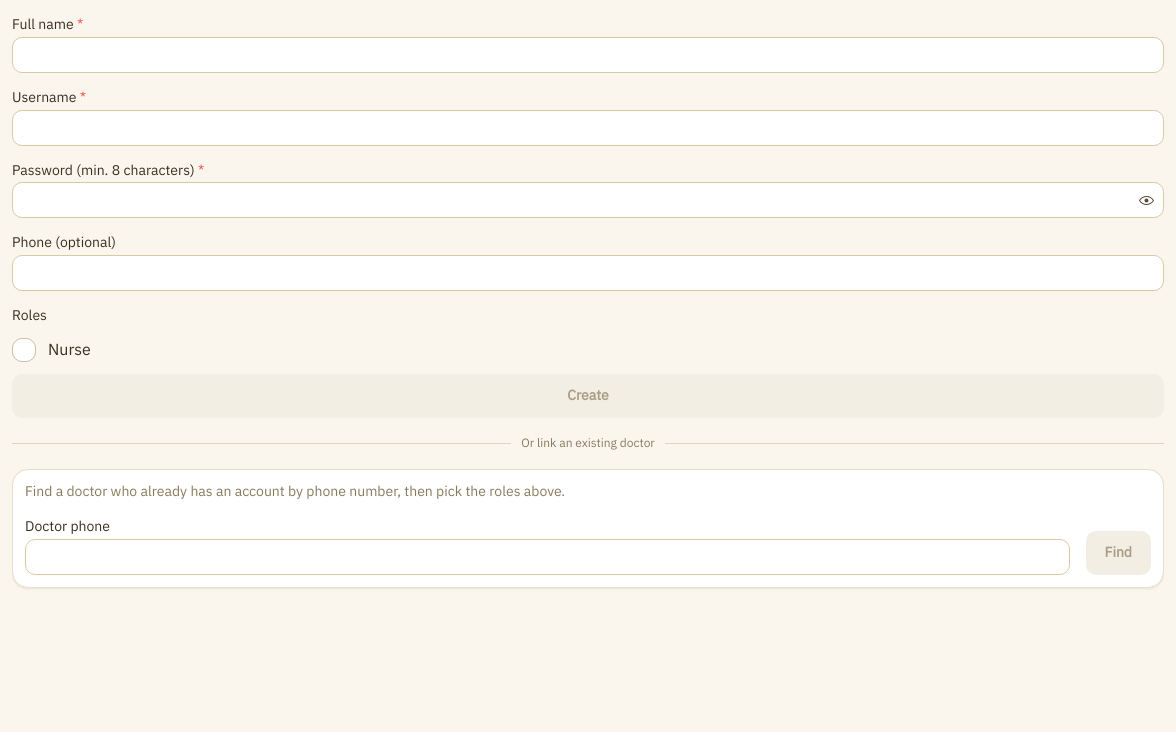
it: UserForm › shows the translated message when the server answers 403 cannot_grant
The image size is (1176, 732).
expect the checkbox labelled "Nurse" is shown: met, box [12, 338, 36, 362]
Type "Sara" into the field labelled "Full name *" at (588, 55), box [12, 37, 1164, 73]
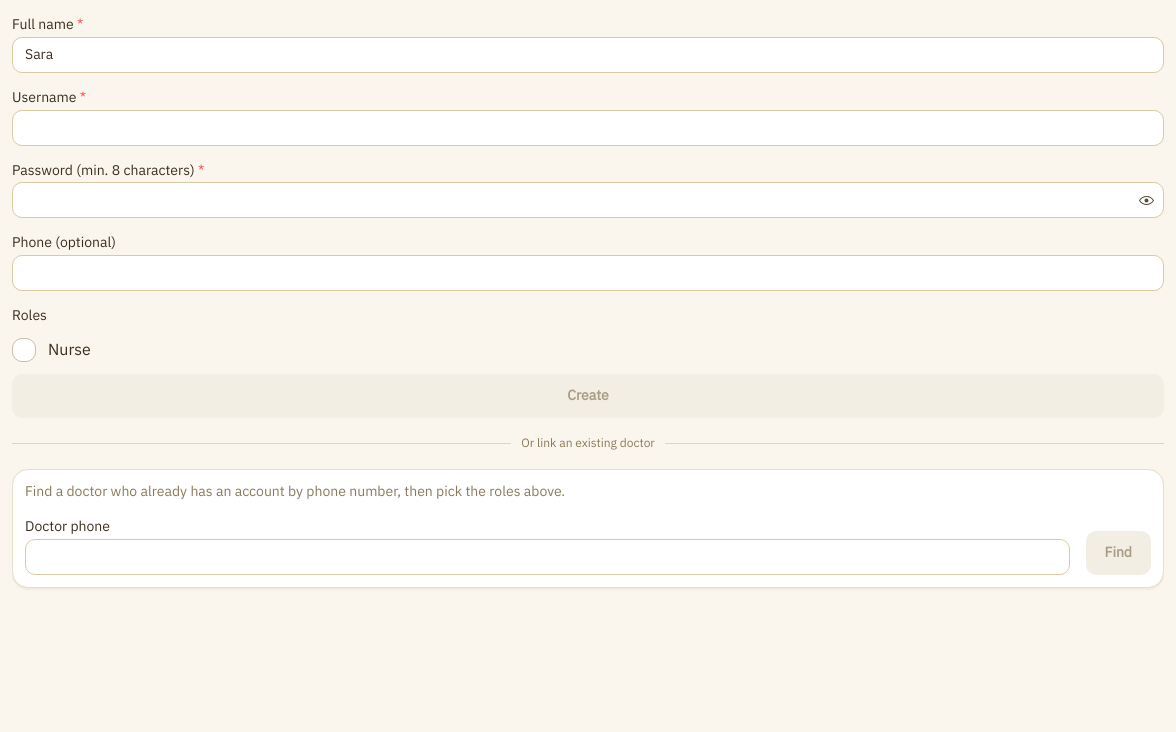
Type "sara" into the field labelled "Username *" at (588, 128), box [12, 110, 1164, 146]
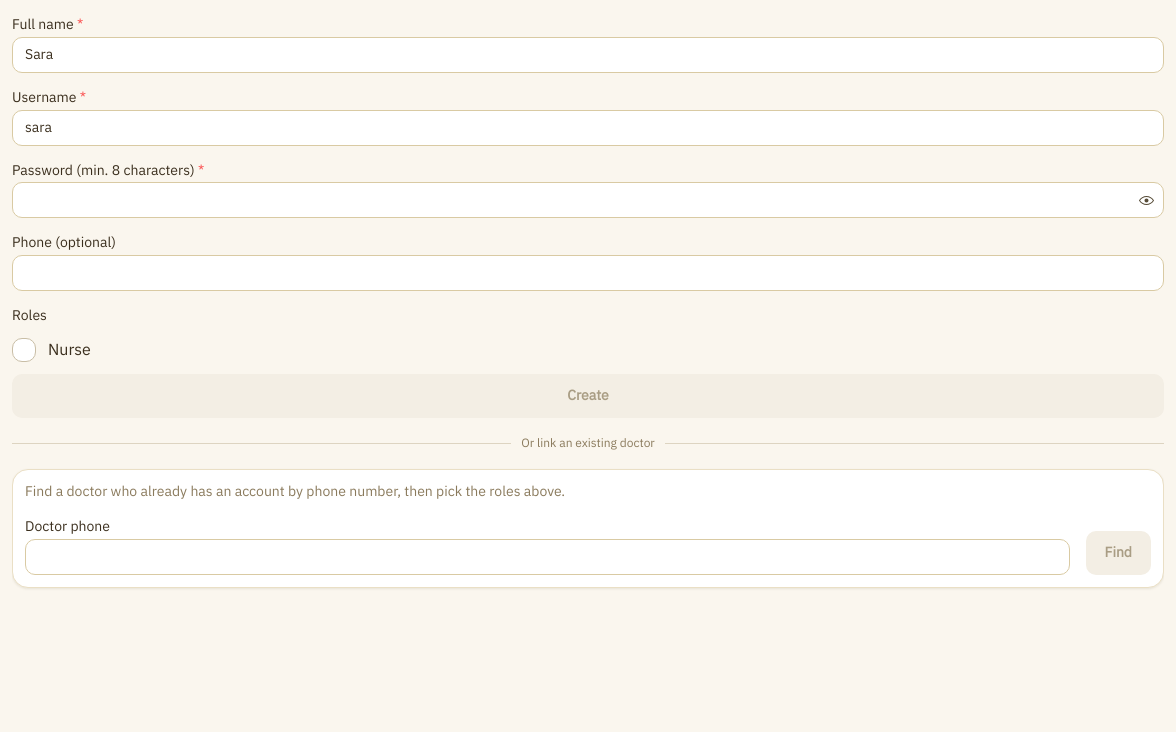
Type "password1" into the password field labelled "Password (min. 8 characters) *" at (588, 200), box [13, 183, 1163, 217]
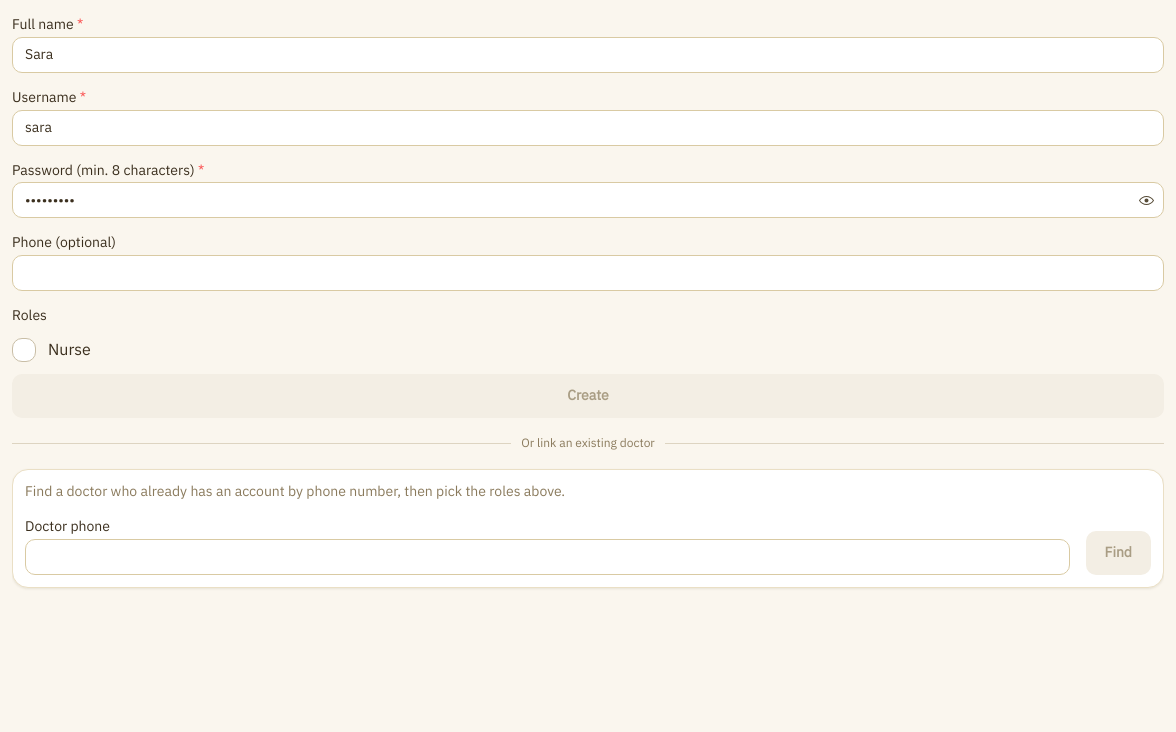
Click the checkbox labelled "Nurse" at (24, 350), box [12, 338, 36, 362]
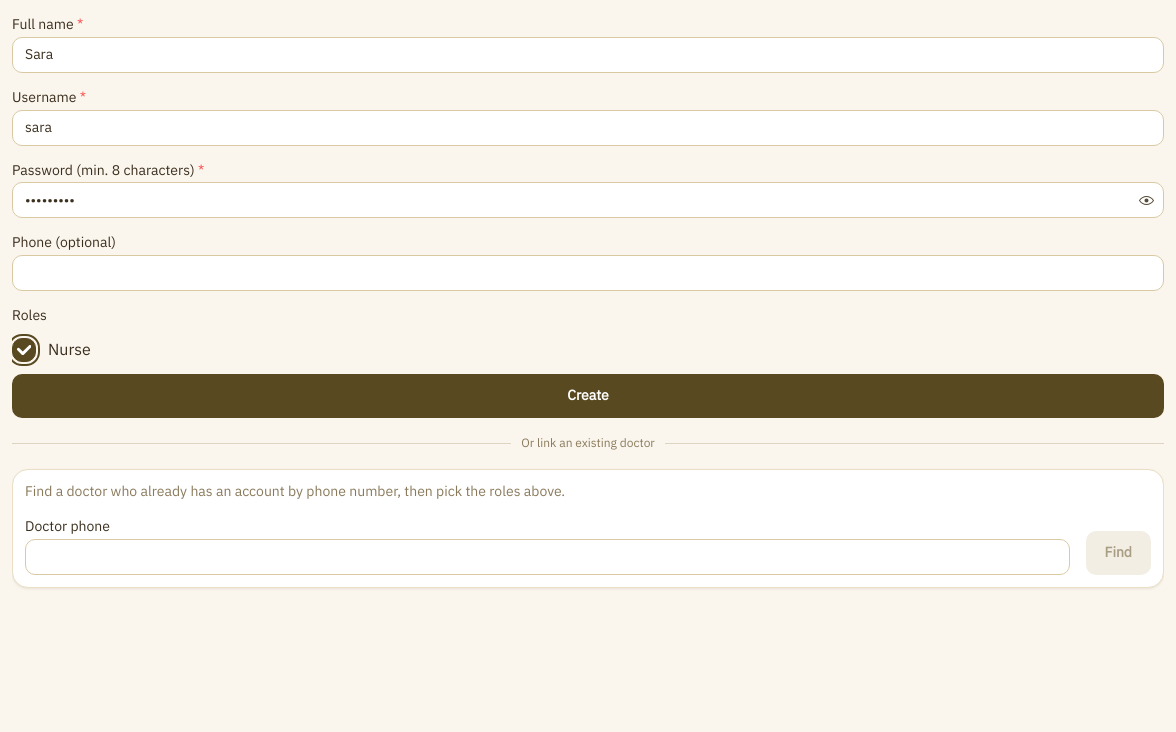
Click the button "Create" at (588, 396), box [12, 374, 1164, 418]
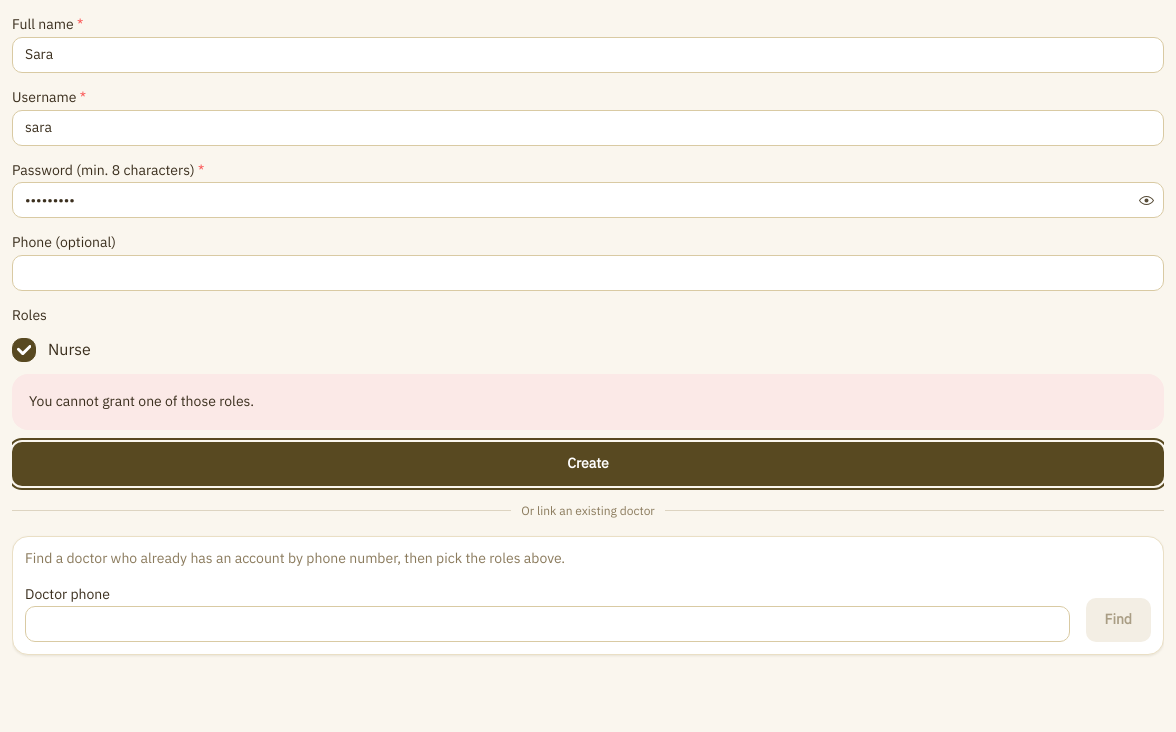
expect the text "You cannot grant one of those roles." is shown: met, box [29, 391, 254, 412]
